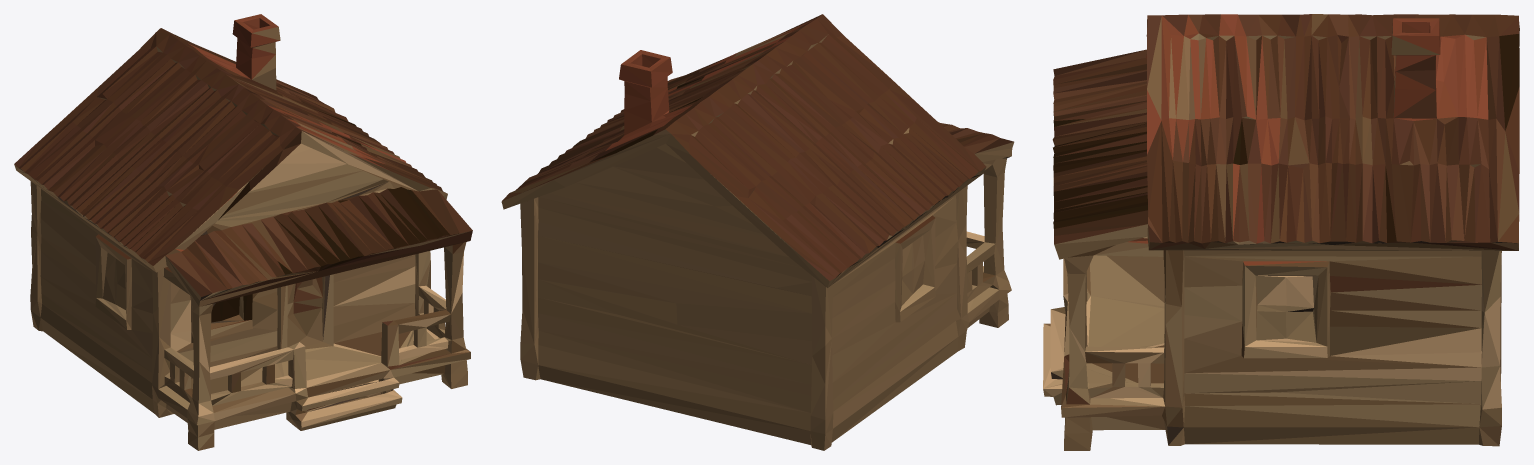
The model's file is ranch-house-v1.glb.
3 renders of one model, left to right at view 1: azimuth 30°, elevation 25°; view 2: azimuth 150°, elevation 25°; view 3: azimuth 270°, elevation 25°, orthographic. The views are drawn at different scales.
Visible parts, largest first — view 1: ranch_house; view 2: ranch_house; view 3: ranch_house.
Part boxes in pixels (x1=…): ranch_house: x1=14, y1=14, x2=472, y2=450; ranch_house: x1=501, y1=14, x2=1014, y2=450; ranch_house: x1=1043, y1=14, x2=1519, y2=450.
Bounding box in the file's own units: 6.85 × 6.29 × 7.22.
